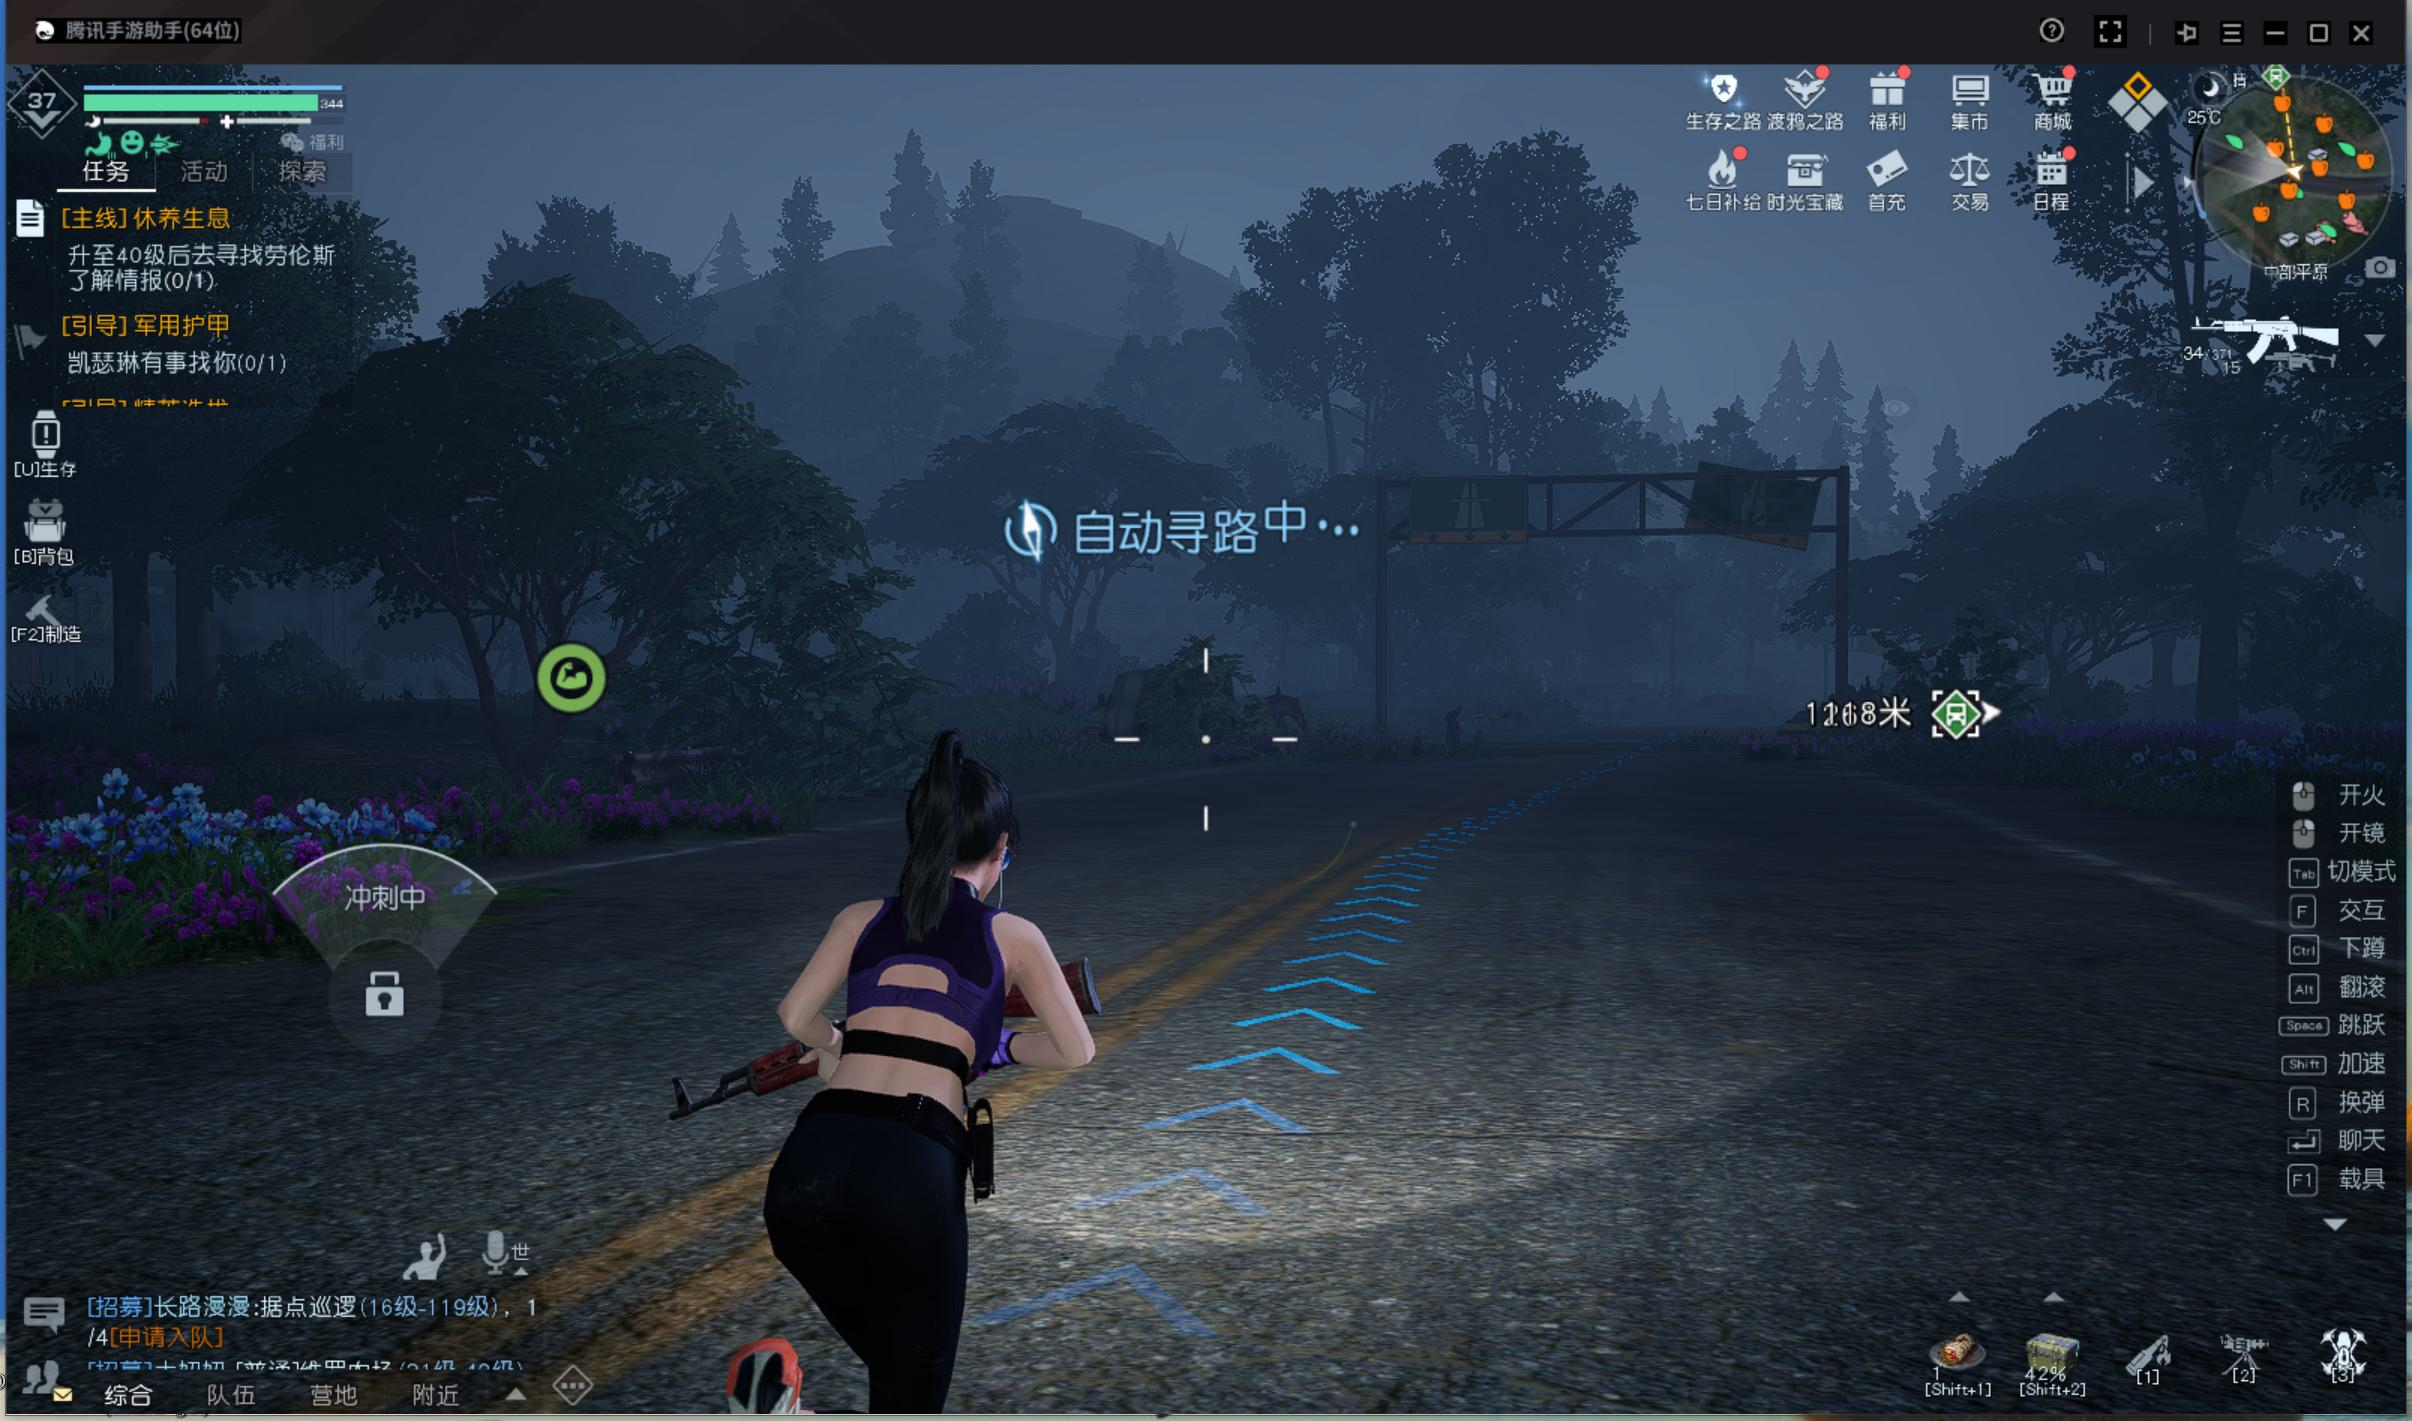tree: (171, 572, 228, 726), (107, 580, 157, 738)
